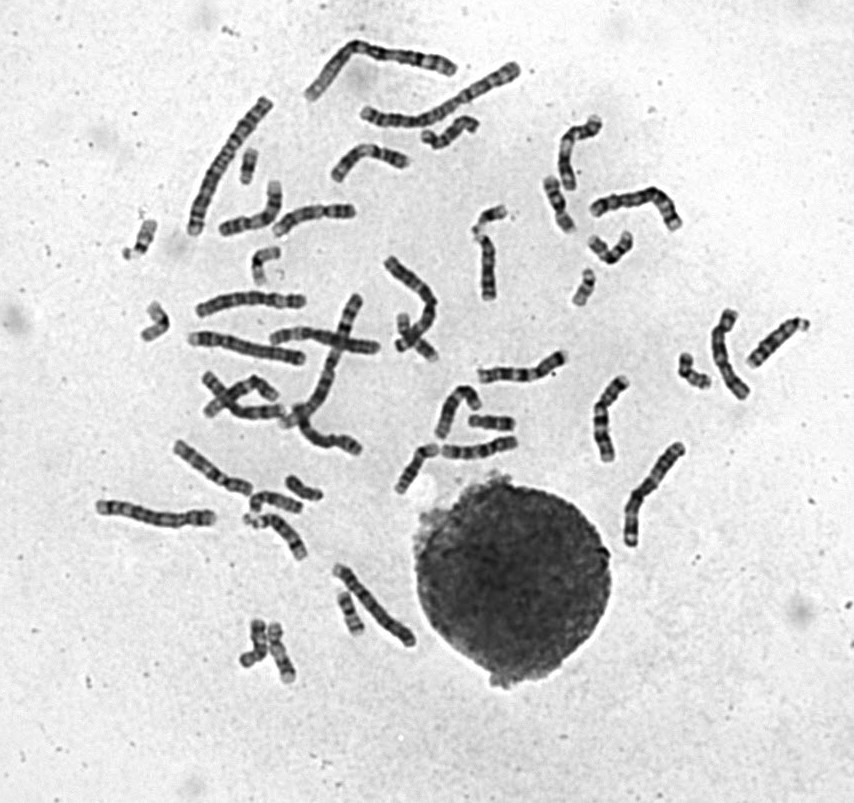chromosomes: (266, 291, 368, 432), (184, 97, 281, 242), (343, 60, 534, 130), (296, 34, 458, 116), (330, 561, 422, 656), (694, 297, 761, 418), (620, 435, 686, 555), (377, 249, 439, 356), (166, 439, 259, 500), (590, 184, 693, 239), (201, 367, 295, 422), (550, 107, 607, 196), (286, 398, 368, 459), (85, 498, 220, 534), (185, 330, 309, 367), (240, 508, 312, 567), (216, 178, 285, 239), (268, 323, 384, 359), (472, 347, 575, 387), (199, 373, 280, 422), (744, 317, 815, 372), (592, 368, 633, 463), (325, 141, 413, 185), (387, 438, 443, 501), (533, 171, 582, 241), (388, 306, 443, 368), (190, 294, 309, 322), (432, 382, 486, 443), (265, 199, 356, 235), (259, 616, 303, 688), (412, 115, 487, 152), (672, 351, 719, 401), (584, 227, 644, 266), (471, 232, 503, 305), (232, 614, 270, 673), (330, 589, 370, 643), (442, 436, 524, 462), (121, 215, 162, 266), (134, 300, 175, 347), (247, 492, 308, 522), (280, 470, 325, 507), (467, 201, 512, 237), (571, 264, 601, 316), (250, 244, 281, 288), (464, 414, 522, 433), (238, 147, 259, 188)
